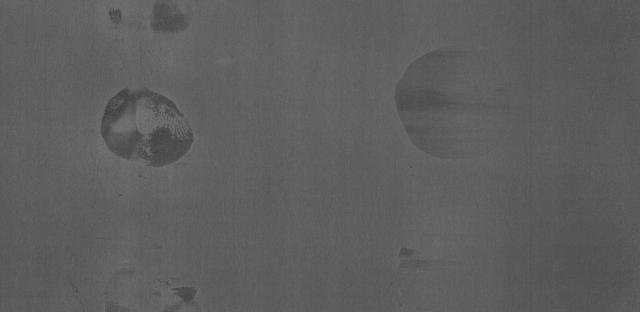oil_spot: (392, 38, 516, 160), (98, 82, 197, 176), (95, 267, 204, 312), (146, 1, 196, 38), (392, 246, 437, 270), (109, 5, 124, 27)
